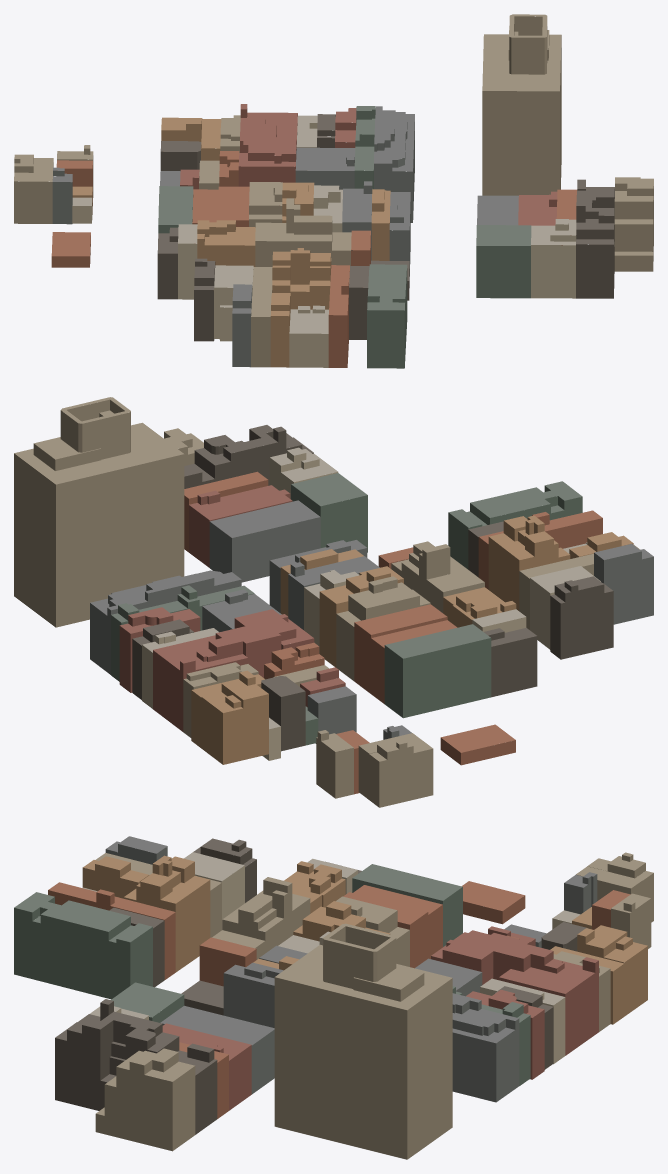
File: tile--5_8.glb
3 views of the same model, one above another, from view 1: azimuth 30°, elevation 25°; view 2: azimuth 150°, elevation 25°; view 3: azimuth 270°, elevation 25° (orthographic). The views are drawn at different scales.
Visible parts, largest first — view 1: wall, roof; view 2: wall, roof; view 3: wall, roof.
Part boxes in pixels (bbox=[...]): wall: bbox=[14, 16, 653, 368]; roof: bbox=[14, 14, 653, 333]; wall: bbox=[14, 399, 653, 807]; roof: bbox=[14, 397, 653, 761]; wall: bbox=[14, 842, 653, 1159]; roof: bbox=[14, 836, 653, 1115].
Size of the model in its own units: 220 by 77.33 by 219.
